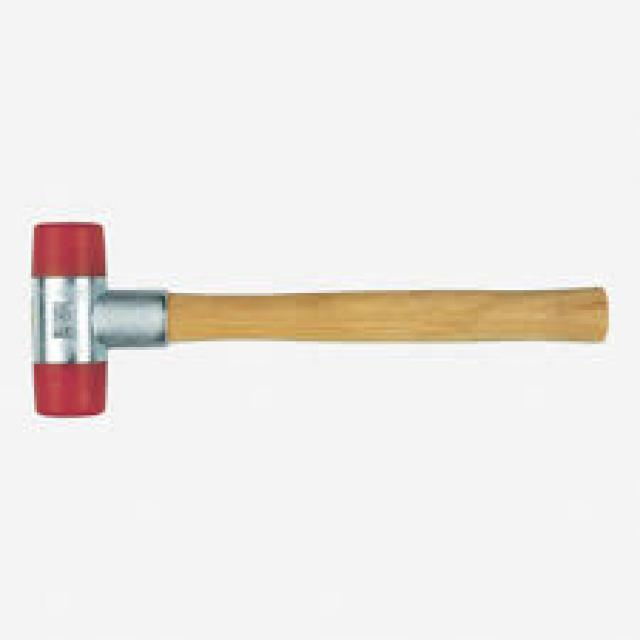hammer: (7, 200, 620, 434)
